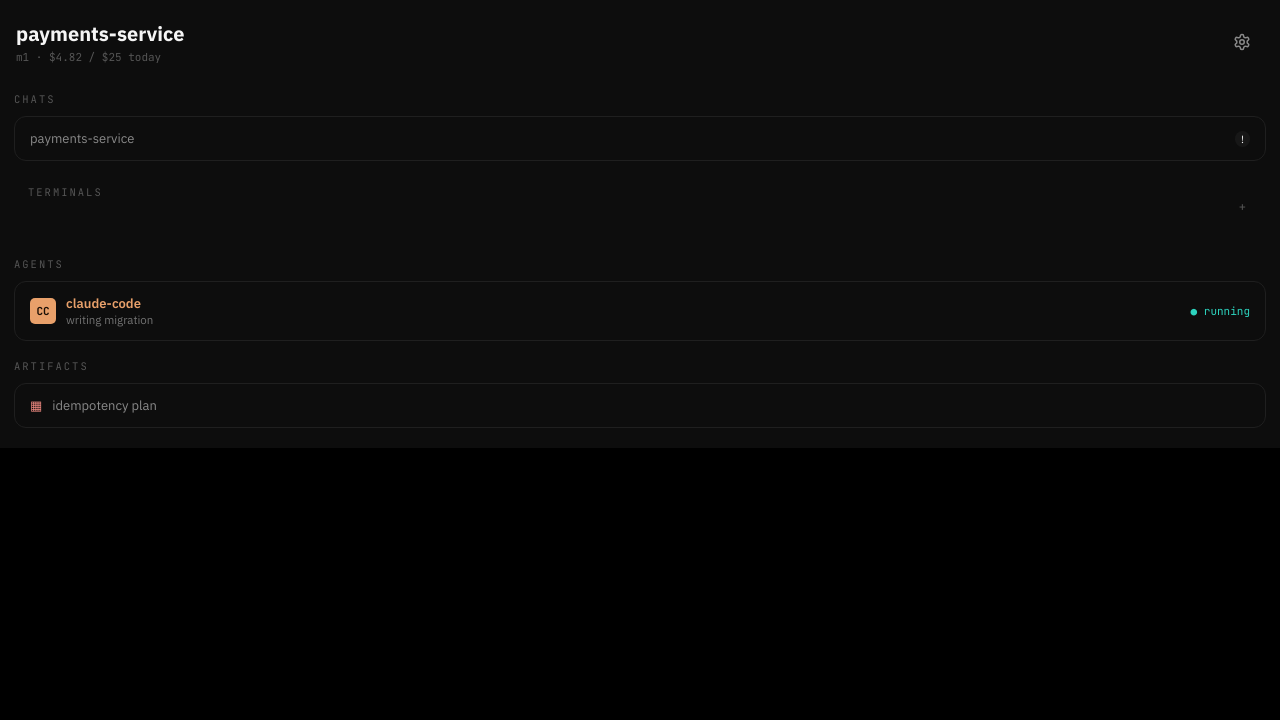
Scenario: WorkspaceScreen › gear opens the settings modal
The width and height of the screenshot is (1280, 720).
Click the button with test id "mobile-settings-open" at (1242, 42), box [1220, 20, 1264, 64]
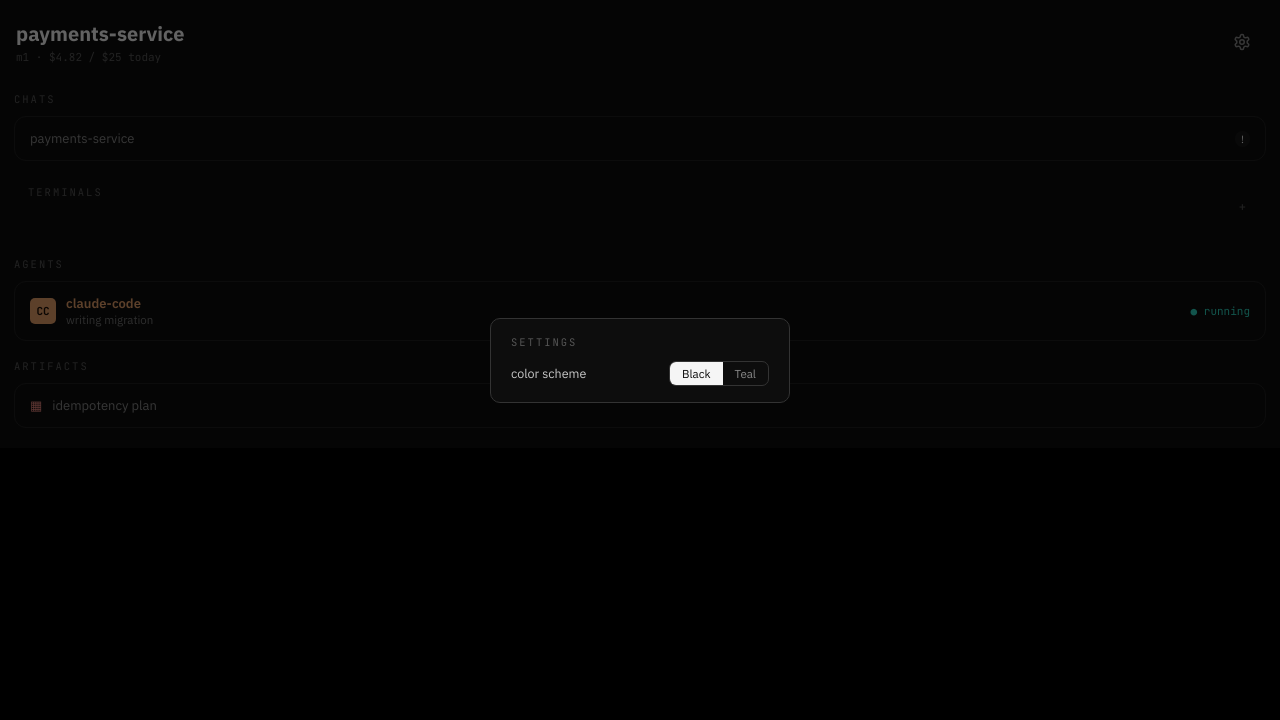
Check: the element with test id "settings-backdrop" is shown
